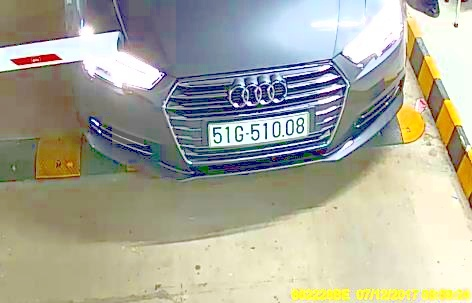plate: (204, 112, 314, 148)
